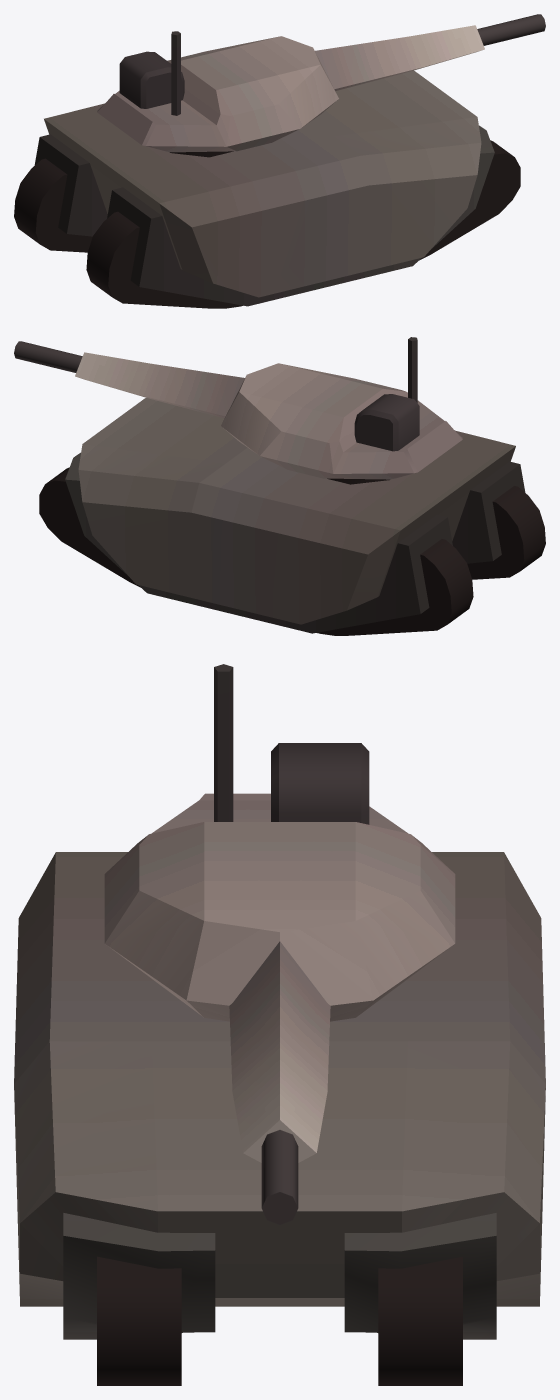
The model's file is Tank_real.fbx.
3 views of the same model, one above another, from view 1: azimuth 30°, elevation 25°; view 2: azimuth 150°, elevation 25°; view 3: azimuth 270°, elevation 25° (orthographic). The views are drawn at different scales.
Visible parts, largest first — view 1: Tank; view 2: Tank; view 3: Tank.
Part boxes in pixels (box(x1,y1,x2,y2)): Tank: box(14, 14, 545, 308); Tank: box(14, 337, 545, 635); Tank: box(14, 664, 545, 1385).
Size of the model in its own units: 3.82 by 1.89 by 1.96.
